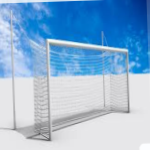goals: (25, 37, 133, 144)
